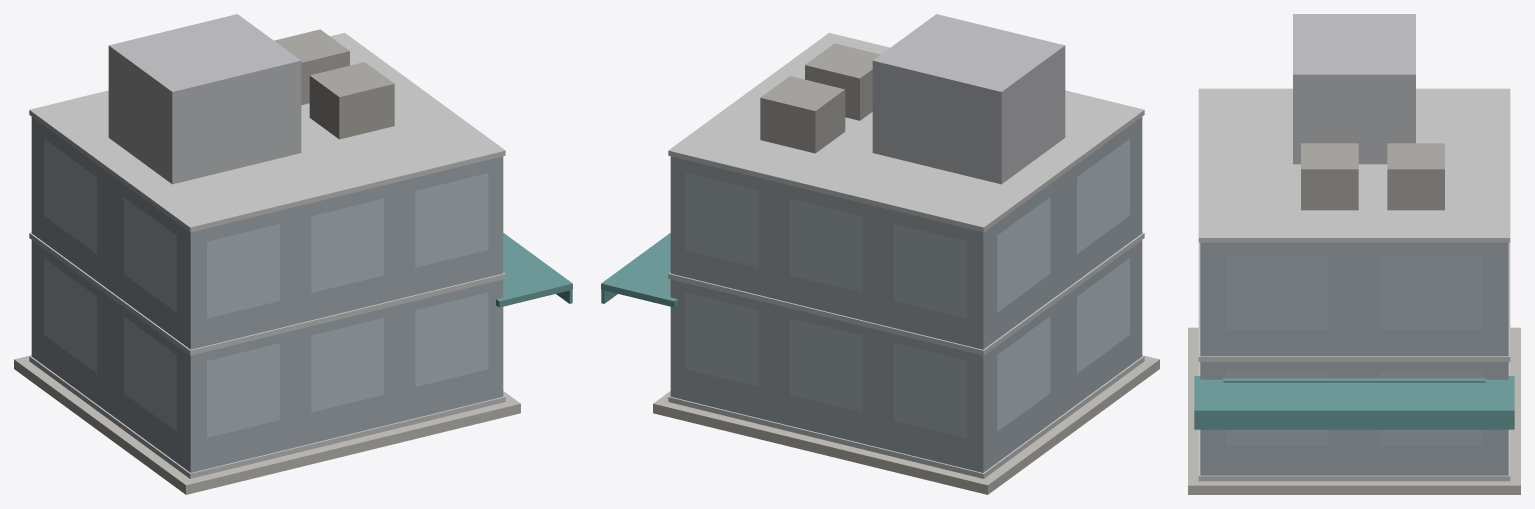
Rendered from 11_retail_shops-09.glb.
3 renders of one model, left to right at view 1: azimuth 30°, elevation 25°; view 2: azimuth 150°, elevation 25°; view 3: azimuth 270°, elevation 25°, orthographic. The views are drawn at different scales.
Bounding box in the file's own units: 10.6 × 9.18 × 8.1.
